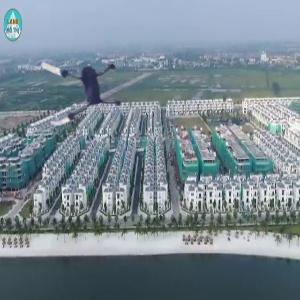drone: (32, 36, 134, 138)
